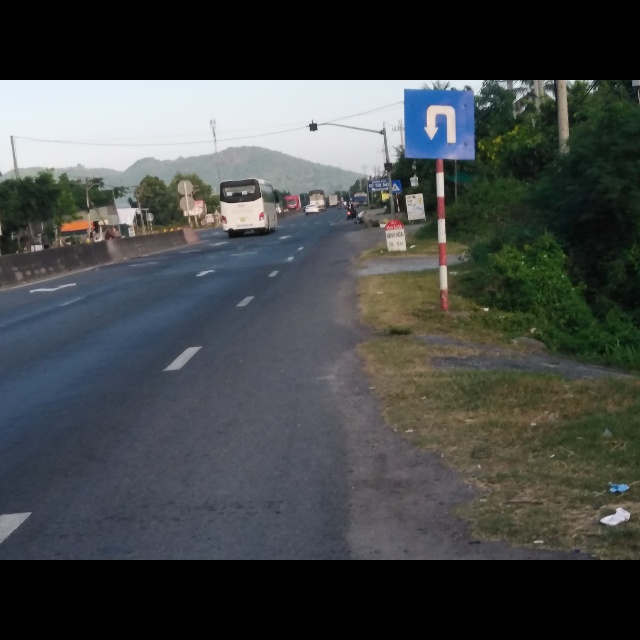Khu vực quay đầu xe: (402, 87, 475, 162)
